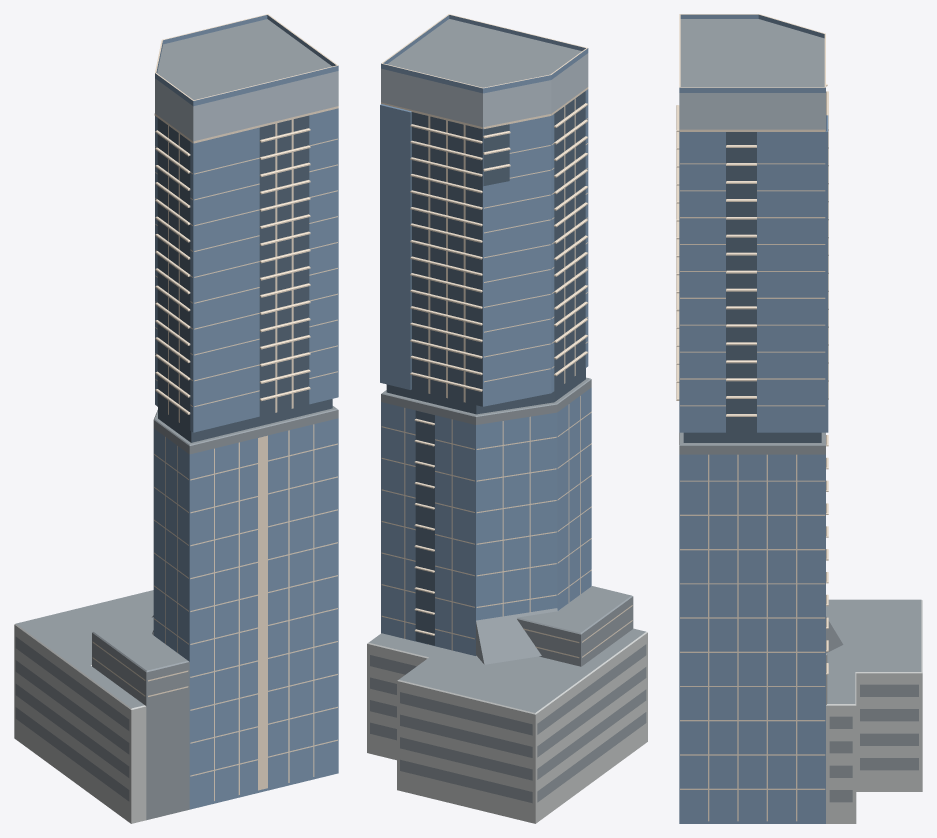
File: atx-sixth-and-guadalupe.glb
3 renders of one model, left to right at view 1: azimuth 30°, elevation 25°; view 2: azimuth 150°, elevation 25°; view 3: azimuth 270°, elevation 25°, orthographic. The views are drawn at different scales.
Visible parts, largest first — view 1: Sixth and Guadalupe; view 2: Sixth and Guadalupe; view 3: Sixth and Guadalupe.
Boxes of the visible parts, x1,y1,x2,y2 form: Sixth and Guadalupe: [14, 14, 338, 823]; Sixth and Guadalupe: [367, 14, 647, 823]; Sixth and Guadalupe: [676, 14, 922, 823].
Size of the model in its own units: 84.16 by 271 by 82.26.
